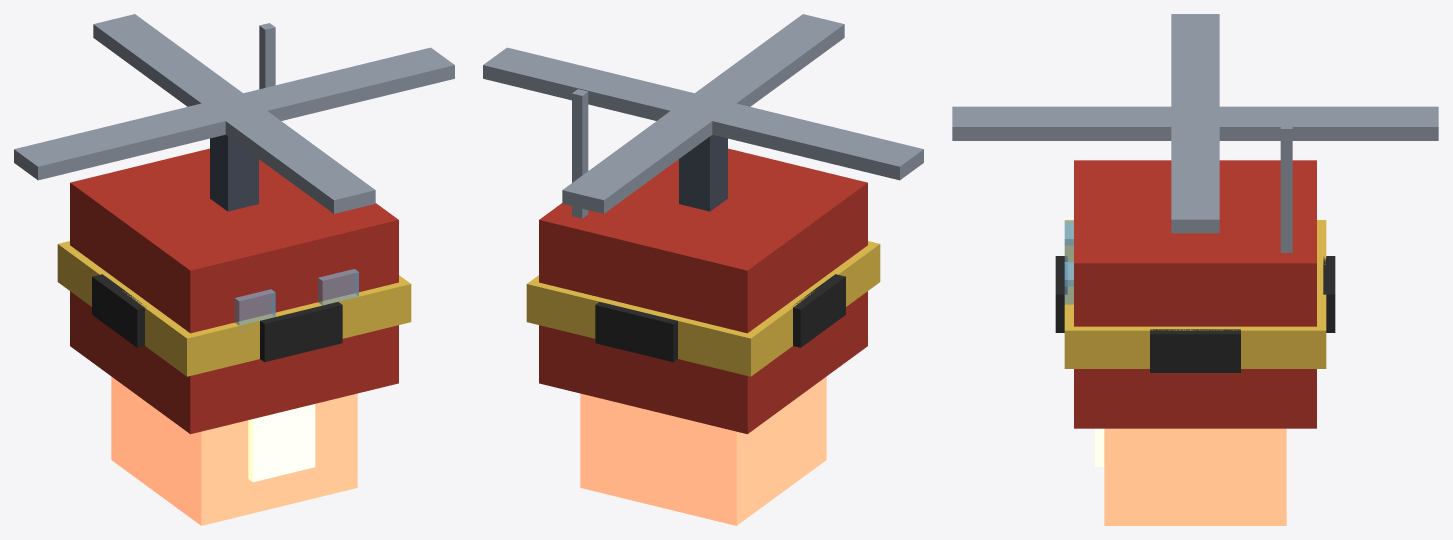
The model's file is enemy-bomber.glb.
The picture shows the model from 3 angles, left to right: view 1: azimuth 30°, elevation 25°; view 2: azimuth 150°, elevation 25°; view 3: azimuth 270°, elevation 25°; orthographic projection.
Visible parts, largest first — view 1: body, glow_bomb, rotor_a, rotor_b, body_band, glow_bomb_core, body_stripe_f, body_mast, body_stripe_r, eye_r, eye_l, antenna_a; view 2: body, glow_bomb, rotor_a, rotor_b, body_band, body_stripe_b, body_mast, body_stripe_r, antenna_a; view 3: body, glow_bomb, rotor_b, rotor_a, body_band, body_stripe_l, antenna_a, body_stripe_b, body_stripe_f.
Boxes of the visible parts, x1,y1,x2,y2 form: body: (70, 148, 398, 434); glow_bomb: (111, 376, 357, 525); rotor_a: (14, 47, 454, 180); rotor_b: (93, 14, 375, 213); body_band: (57, 241, 411, 376); glow_bomb_core: (248, 404, 315, 482); body_stripe_f: (260, 302, 342, 362); body_mast: (210, 134, 258, 211); body_stripe_r: (92, 274, 145, 347); eye_r: (234, 289, 275, 332); eye_l: (318, 269, 358, 305); antenna_a: (259, 23, 275, 89); body: (539, 148, 867, 434); glow_bomb: (580, 376, 826, 525); rotor_a: (483, 47, 923, 180); rotor_b: (562, 14, 844, 213); body_band: (526, 241, 880, 376); body_stripe_b: (595, 302, 677, 362); body_mast: (679, 134, 727, 211); body_stripe_r: (792, 274, 845, 347); antenna_a: (572, 89, 588, 218); body: (1074, 160, 1316, 428); glow_bomb: (1104, 428, 1286, 525); rotor_b: (952, 106, 1438, 140); rotor_a: (1171, 14, 1219, 233); body_band: (1064, 220, 1326, 368); body_stripe_l: (1150, 329, 1240, 372); antenna_a: (1280, 124, 1292, 252); body_stripe_b: (1323, 256, 1335, 332); body_stripe_f: (1055, 256, 1067, 332).
Bounding box in the file's own units: 1.6 × 1.45 × 1.6.
